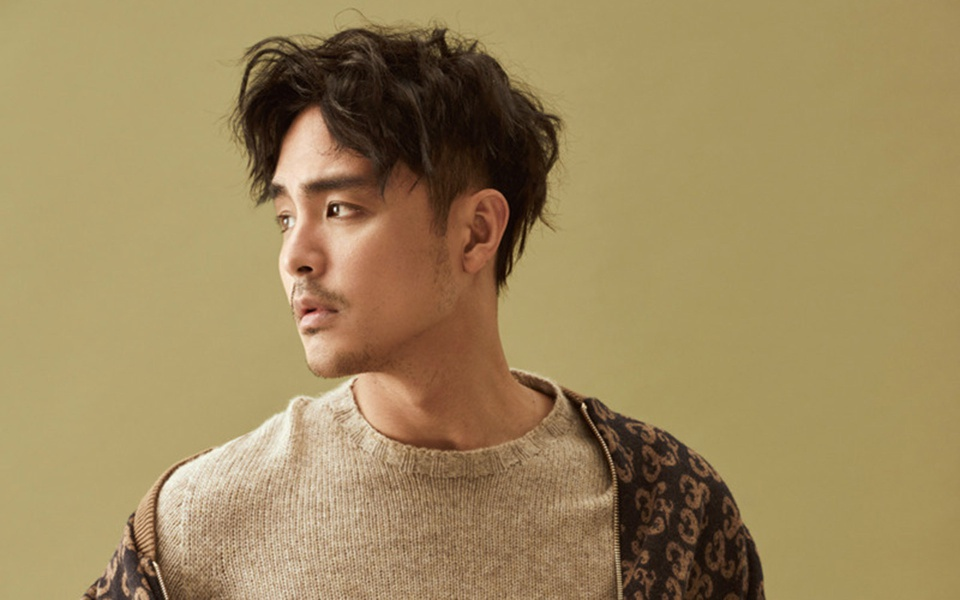male: (215, 18, 601, 408)
